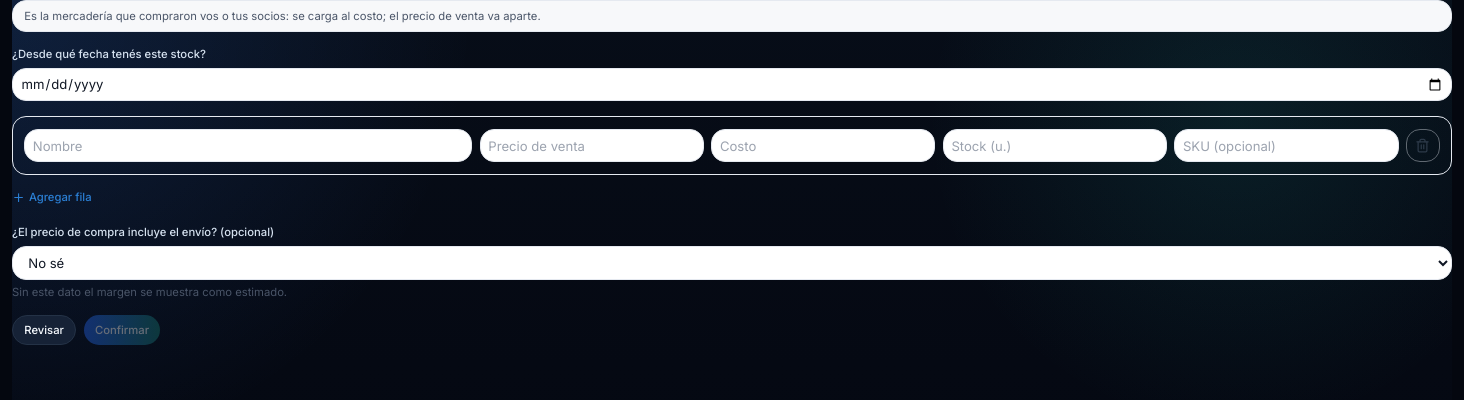
Test case: flujo feliz: revisa, confirma con fecha y clave, y muestra el resumen
Expected: the text "compraron vos o tus socios" is shown, [24,8,541,22]
Expected: the date field labelled "¿Desde qué fecha tenés este stock?" is empty, [12,68,1452,101]
Type "Vela aromática" into the field named "Nombre, fila 1" at (248, 146), box [24,129,472,162]
Type "3000" into the field named "Precio de venta, fila 1" at (592, 146), box [480,129,704,162]
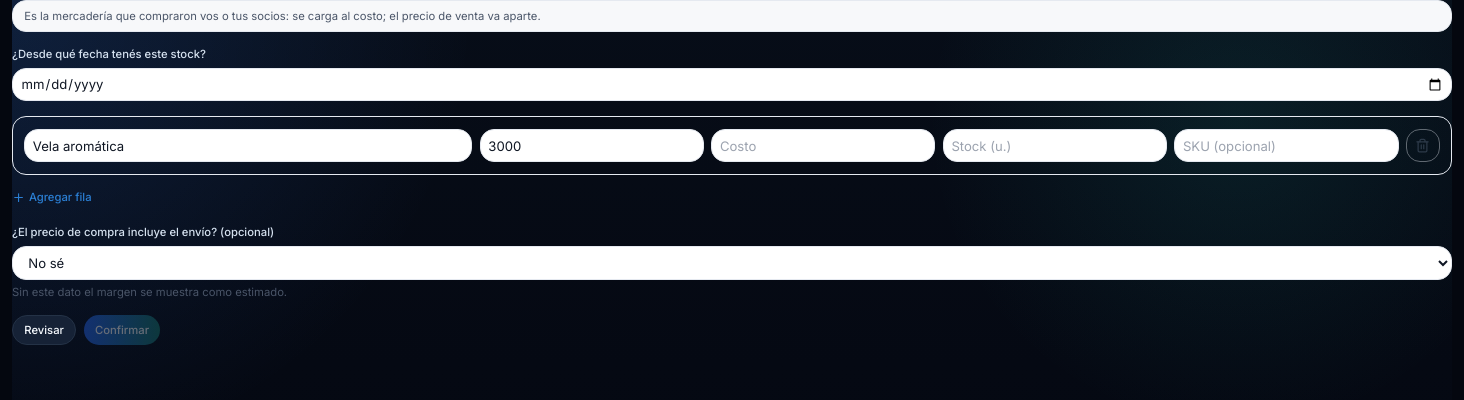
Type "1200" into the field named "Costo, fila 1" at (823, 146), box [711,129,935,162]
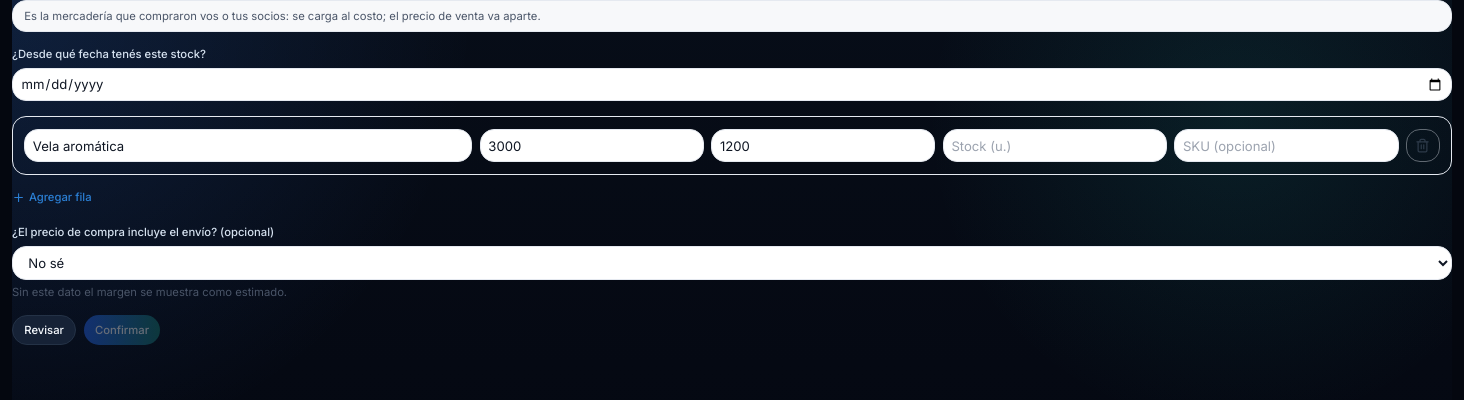
Type "10" into the field named "Stock, fila 1" at (1055, 146), box [943,129,1167,162]
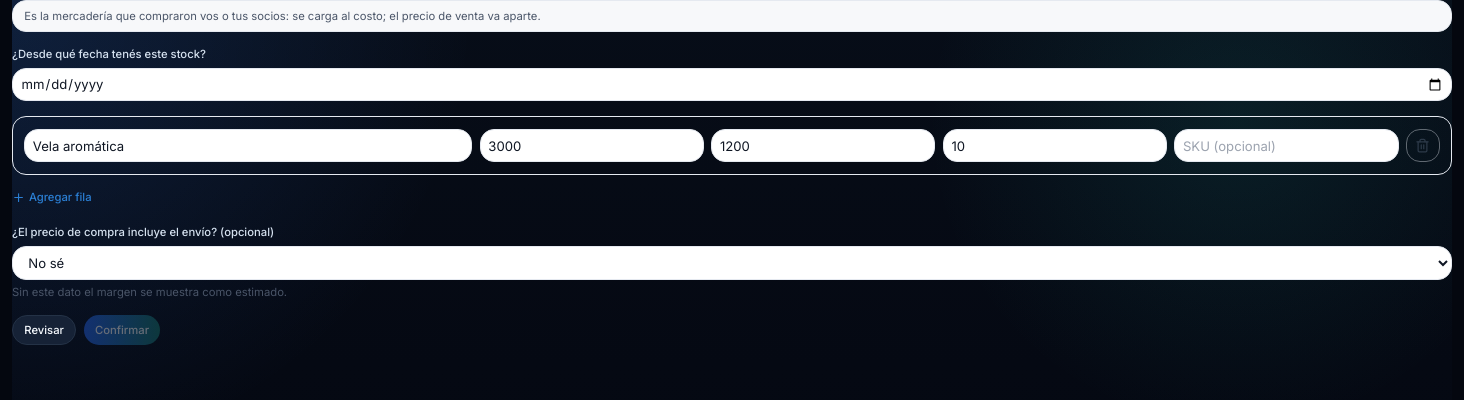
Type "2026-08-01" into the date field labelled "¿Desde qué fecha tenés este stock?" at (732, 84), box [12,68,1452,101]
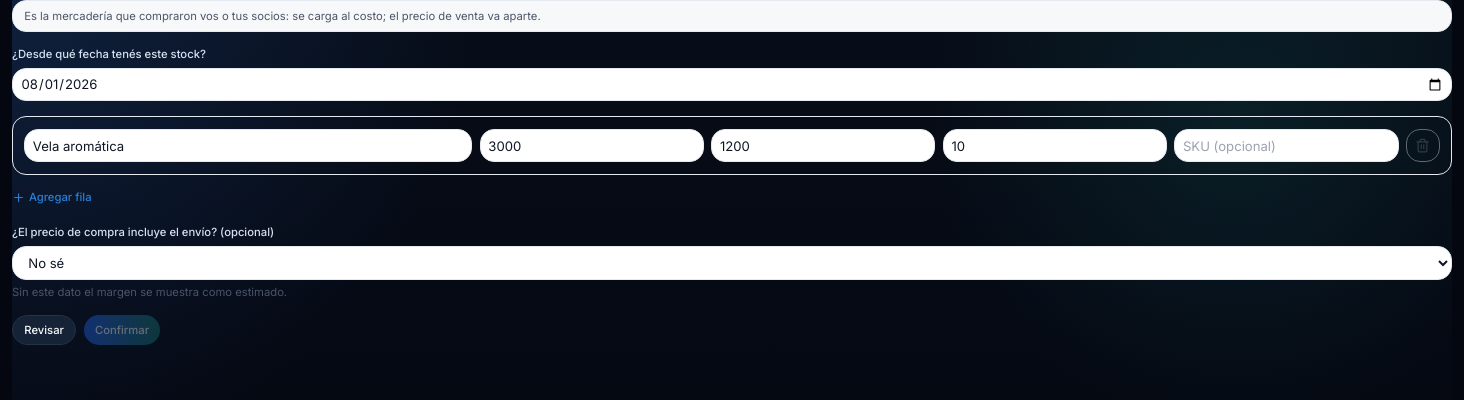
Expected: the button "Confirmar" is disabled, [84,315,160,345]
Click the button "Revisar" at (44, 330), box [12,315,76,345]
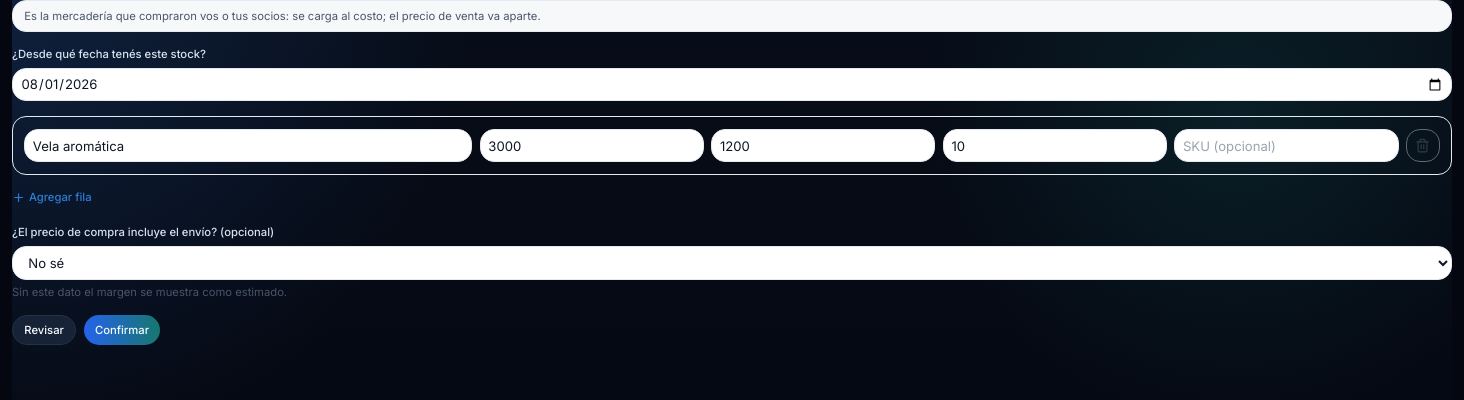
Expected: the button "Confirmar" is enabled
Click the button "Confirmar" at (122, 330), box [84,315,160,345]
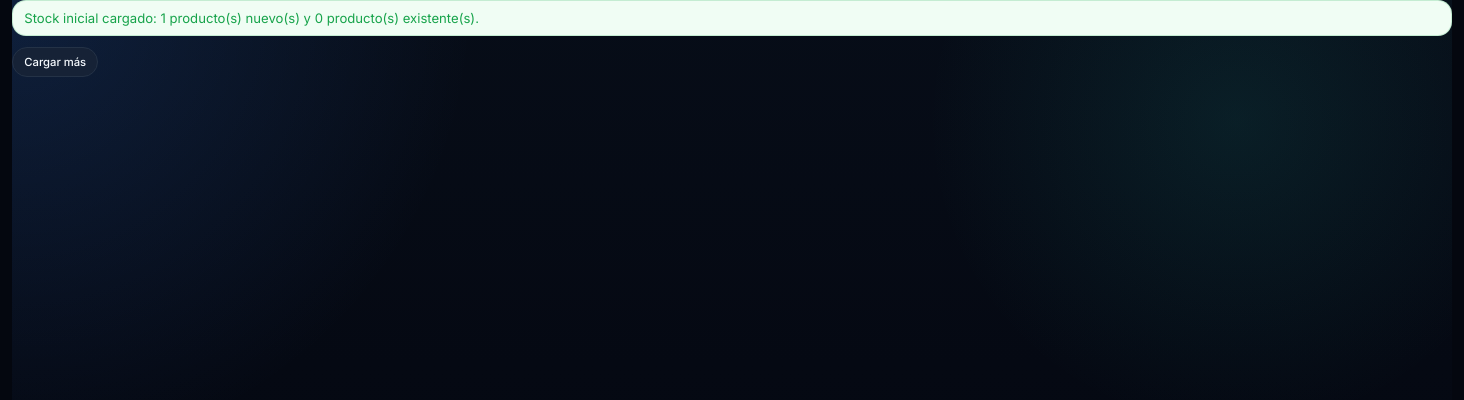
Expected: the text "1 producto(s) nuevo(s)" is shown, [12,0,1452,36]
